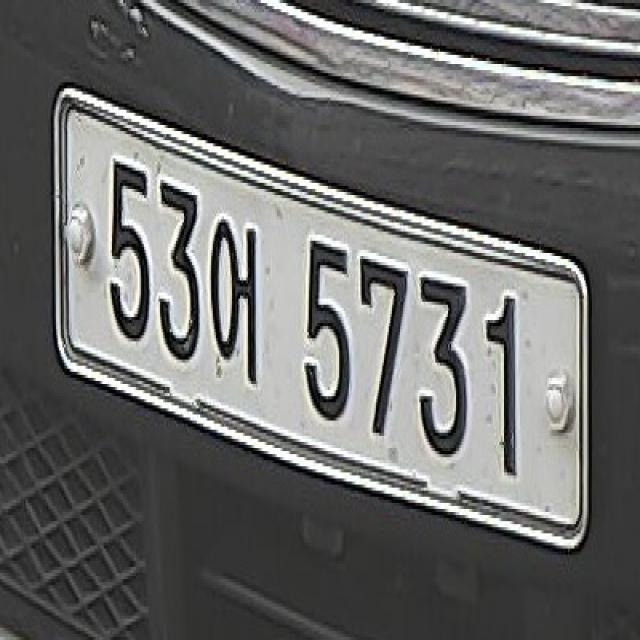1: (480, 278, 539, 484)
3: (411, 247, 477, 475), (150, 152, 207, 394)
5: (296, 195, 355, 421), (102, 143, 150, 354)
7: (360, 232, 413, 457)
eo: (205, 183, 264, 399)
license_plate: (37, 49, 590, 588)
